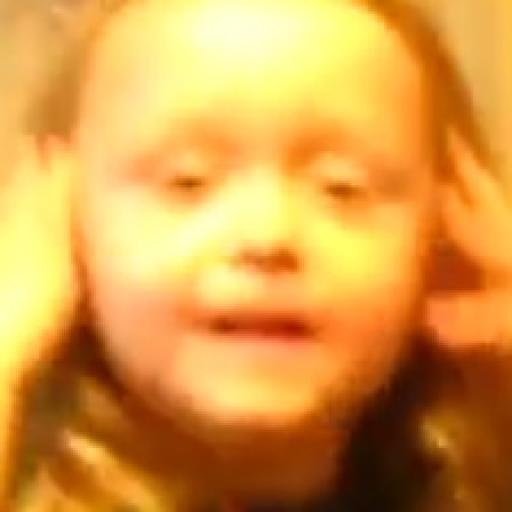Autism: (48, 0, 481, 448)
